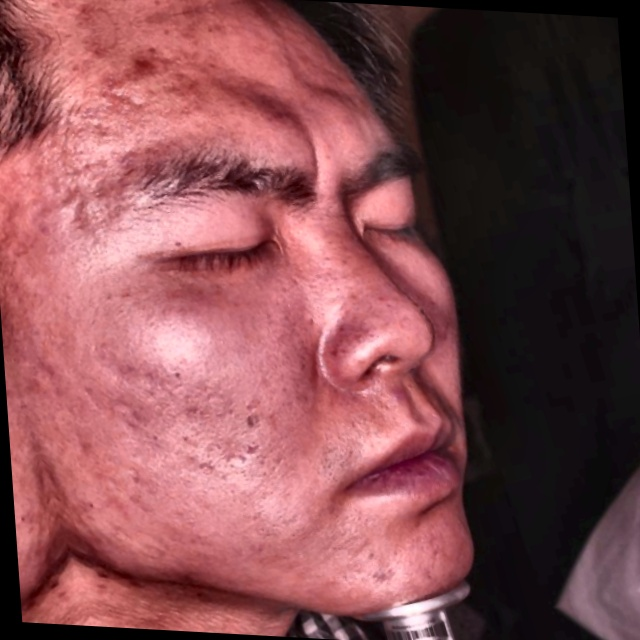comedone: (127, 45, 172, 88), (384, 381, 418, 413), (74, 516, 106, 549), (24, 527, 55, 559), (33, 213, 65, 241)
